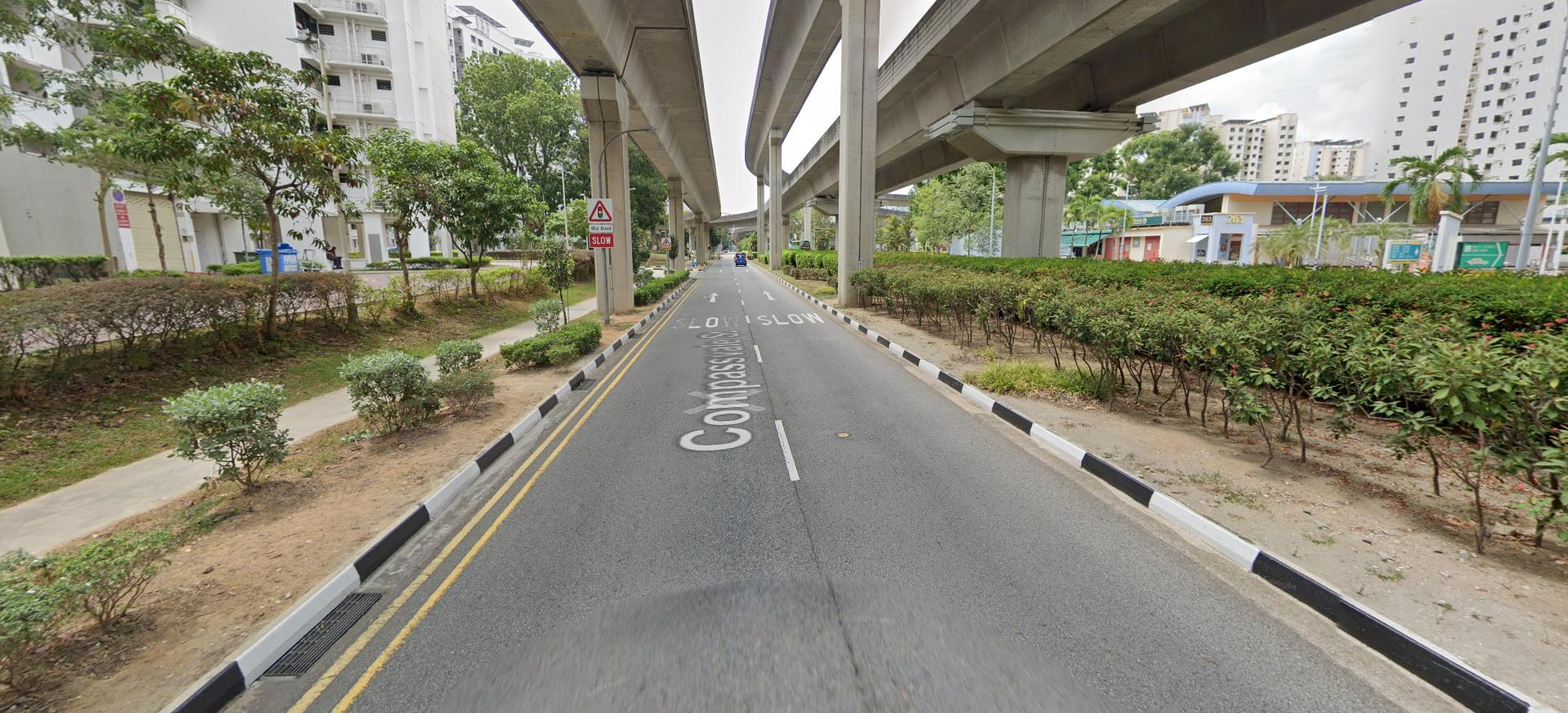defect: (262, 591, 390, 676)
